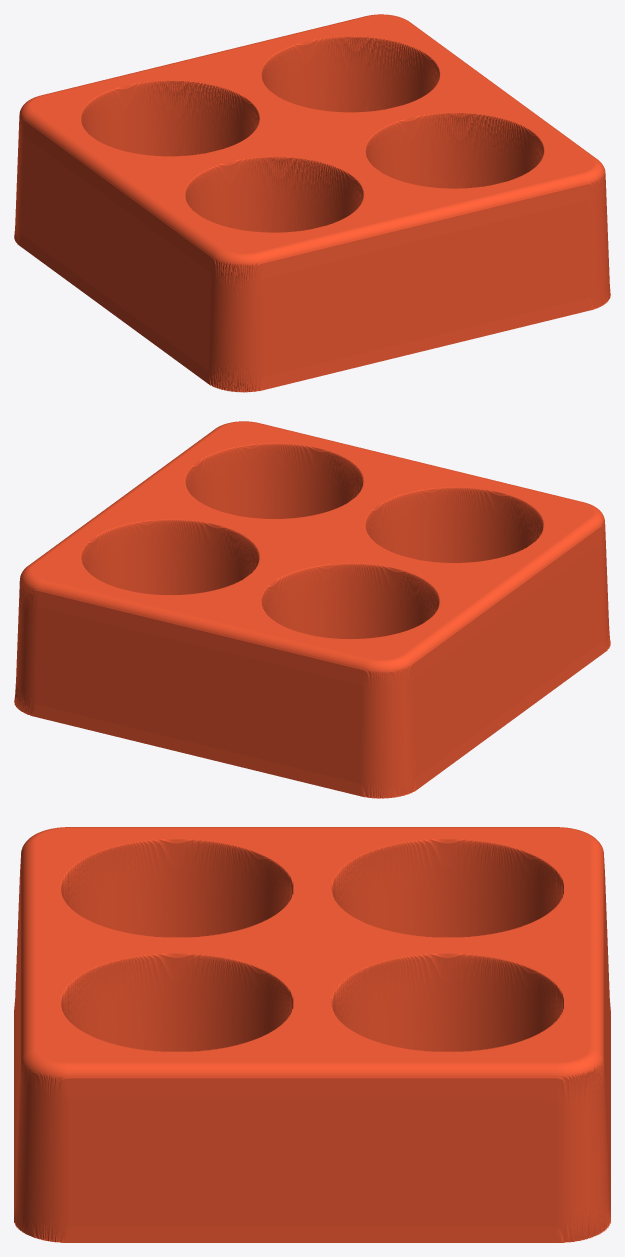
File: mold.glb
3 views of the same model, one above another, from view 1: azimuth 30°, elevation 25°; view 2: azimuth 150°, elevation 25°; view 3: azimuth 270°, elevation 25° (orthographic). The views are drawn at different scales.
Parts seen in each view (by area): view 1: geometry_0; view 2: geometry_0; view 3: geometry_0.
Part boxes in pixels (left/top/right/bottom): geometry_0: left=14, top=14, right=610, bottom=392; geometry_0: left=14, top=421, right=610, bottom=798; geometry_0: left=14, top=827, right=610, bottom=1242.
Size of the model in its own units: 0.0992 by 0.0314 by 0.0992.
